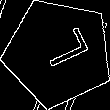L_SW: (29, 28, 88, 78)
